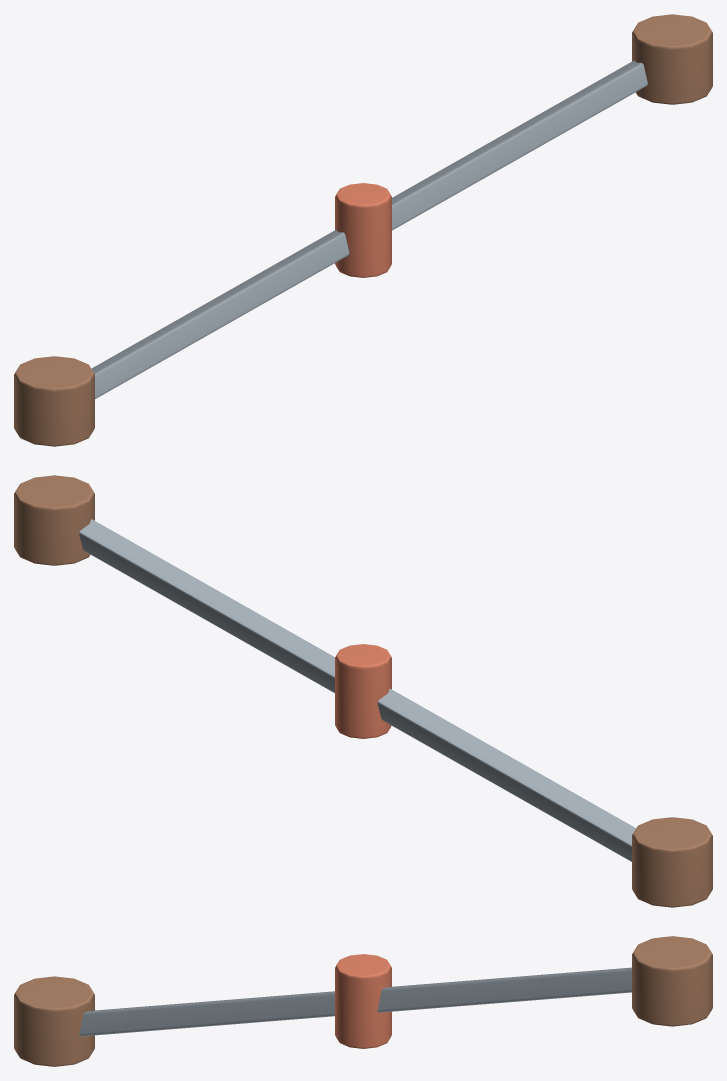
The model's file is lashing_bar.glb.
The picture shows the model from 3 angles, top to bottom: view 1: azimuth 30°, elevation 25°; view 2: azimuth 150°, elevation 25°; view 3: azimuth 330°, elevation 25°; orthographic projection.
Parts seen in each view (by area): view 1: lashing_bar; view 2: lashing_bar; view 3: lashing_bar.
Boxes of the visible parts, x1,y1,x2,y2 form: lashing_bar: [14, 14, 712, 446]; lashing_bar: [14, 475, 712, 907]; lashing_bar: [14, 936, 712, 1066].
Size of the model in its own units: 0.98 by 0.34 by 0.1.
